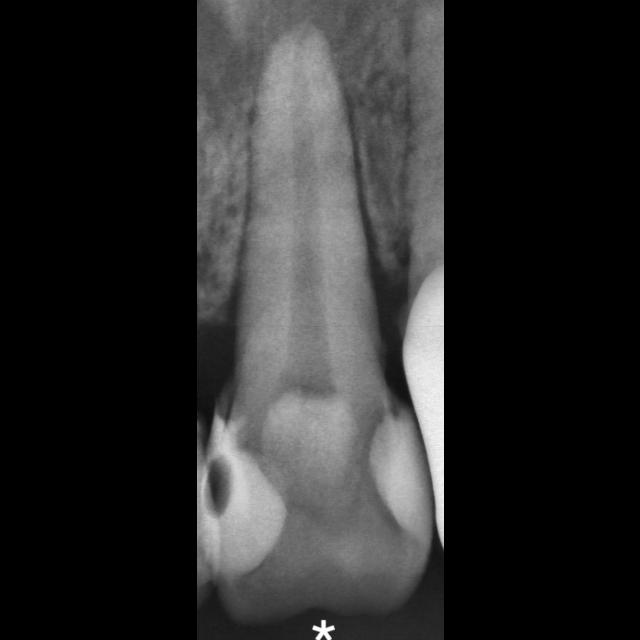tooth: (196, 19, 432, 630)
